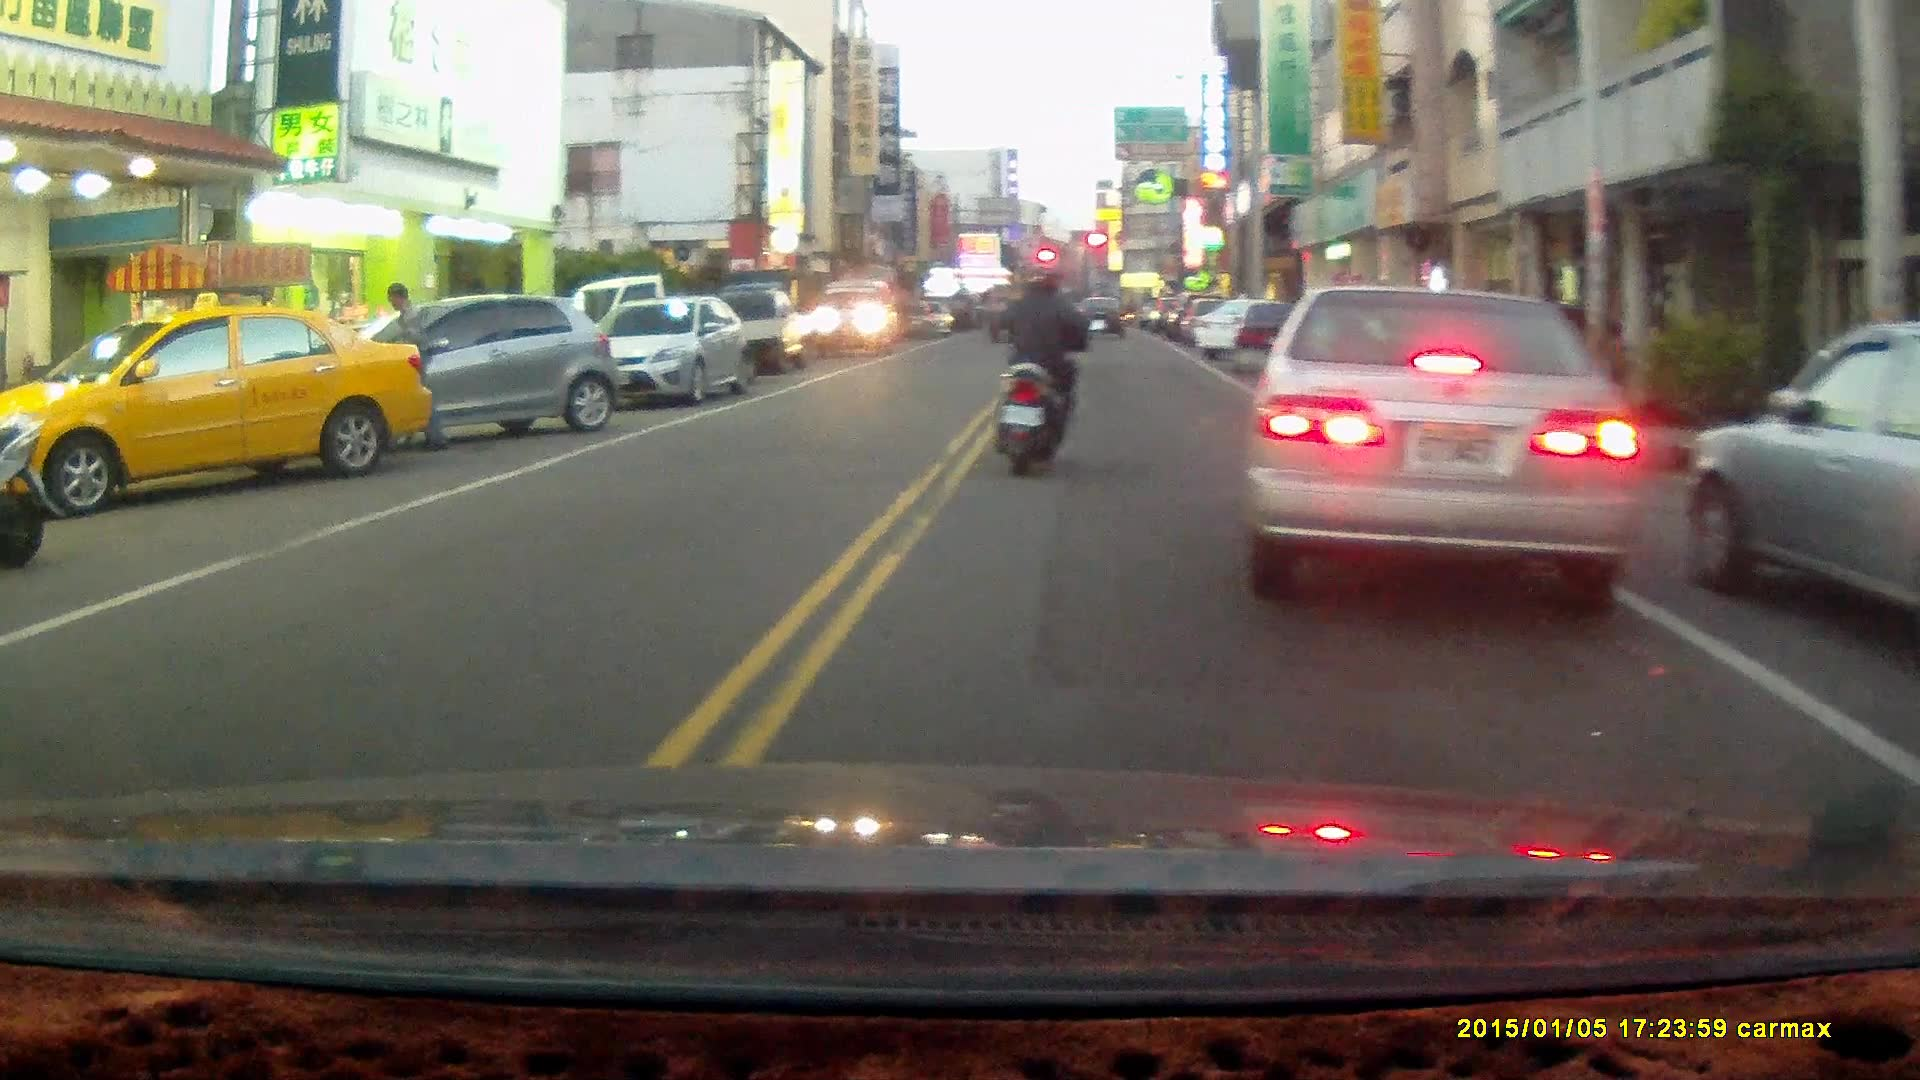pedestrian: (380, 279, 438, 456)
rider: (987, 263, 1108, 477)
vehicle: (1238, 283, 1644, 612), (1, 303, 430, 521), (1680, 317, 1920, 686), (326, 292, 623, 439), (592, 296, 756, 410), (715, 286, 817, 381), (814, 279, 897, 356)
